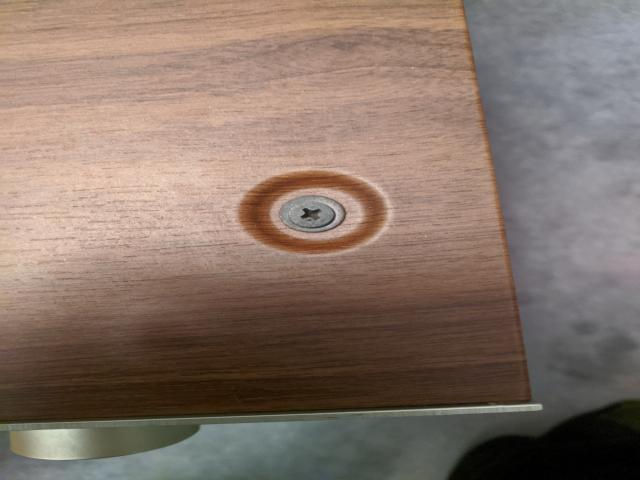CRS: (289, 203, 334, 226)
